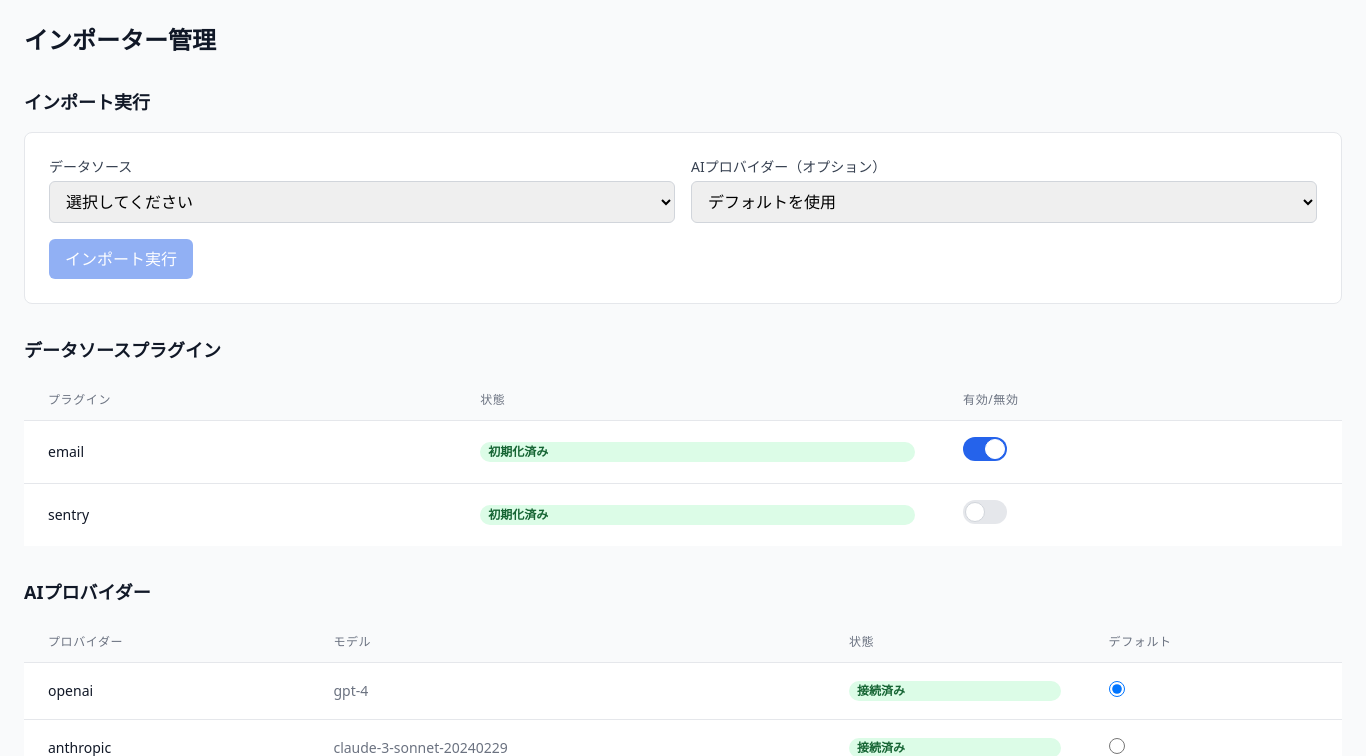
Test: Importer Integration Tests - Critical Paths › Plugin Toggle Flow › shows error message when toggle operation fails
Expected: the text "sentry" is shown, 24,484 -> 456,546
Click the checkbox named "sentryプラグインの有効/無効切り替え". click: (985, 512)
box: 963,500 -> 1007,524
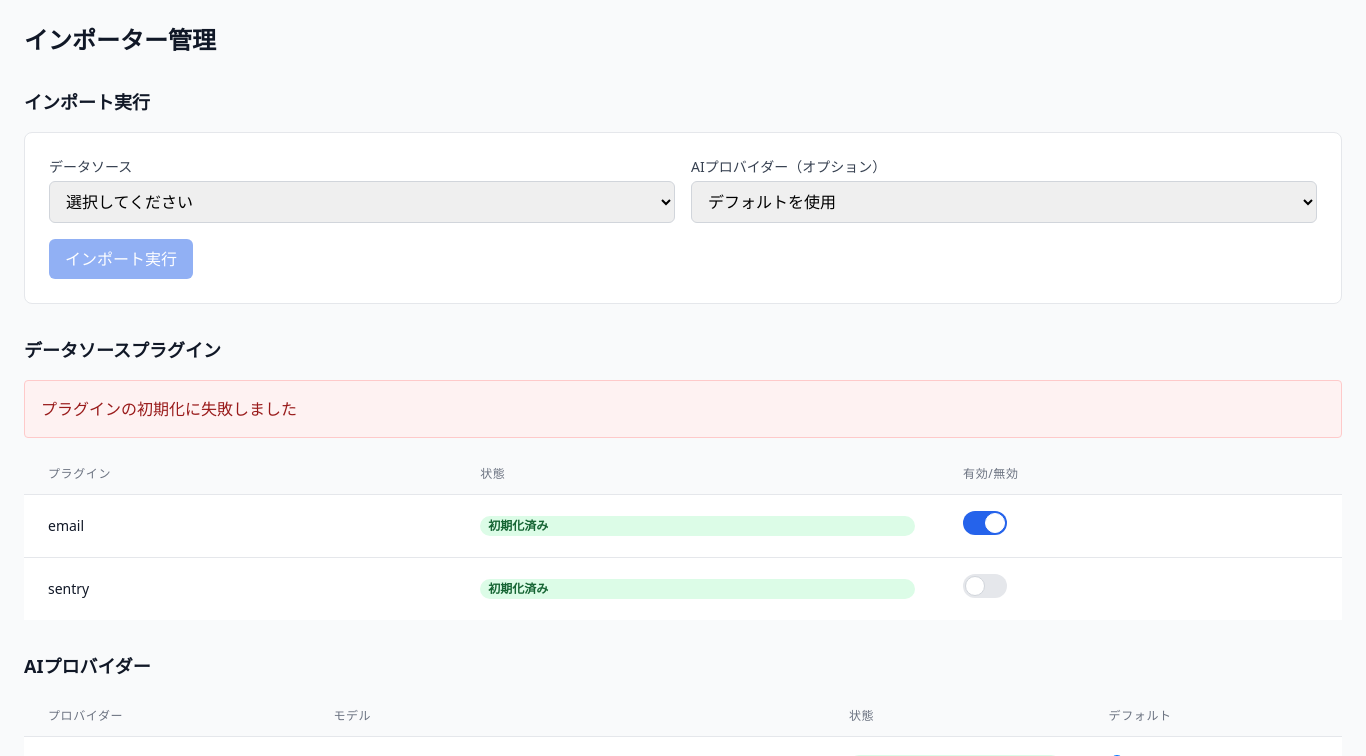
Expected: the text "プラグインの初期化に失敗しました" is shown, 41,398 -> 297,420
